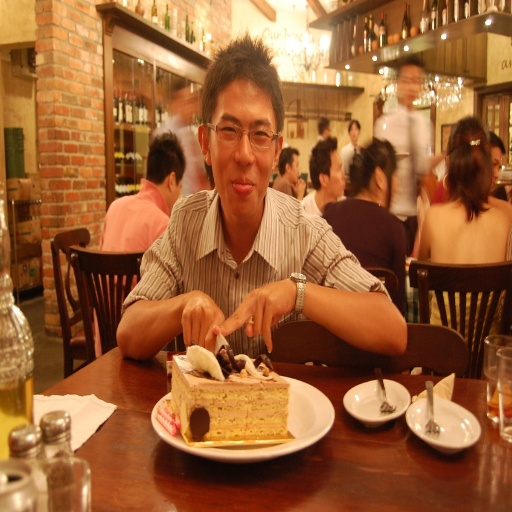hand: (239, 282, 295, 342), (180, 286, 226, 356), (430, 148, 448, 168), (290, 179, 308, 196), (415, 193, 424, 225)
